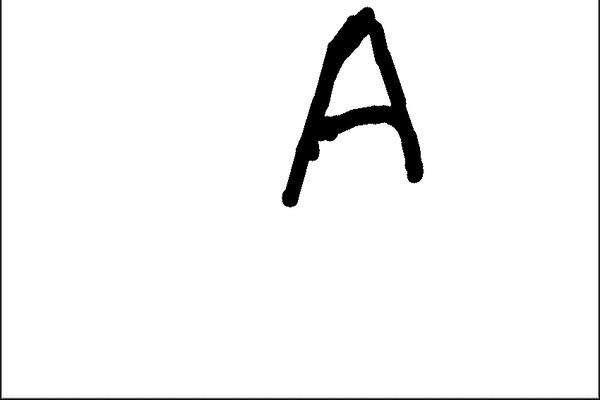A: (277, 3, 436, 211)
